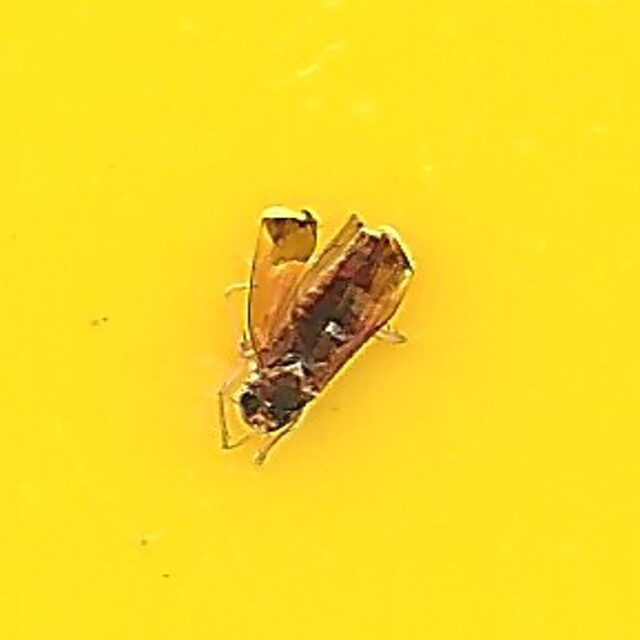Hemiptera: (221, 193, 419, 447)
